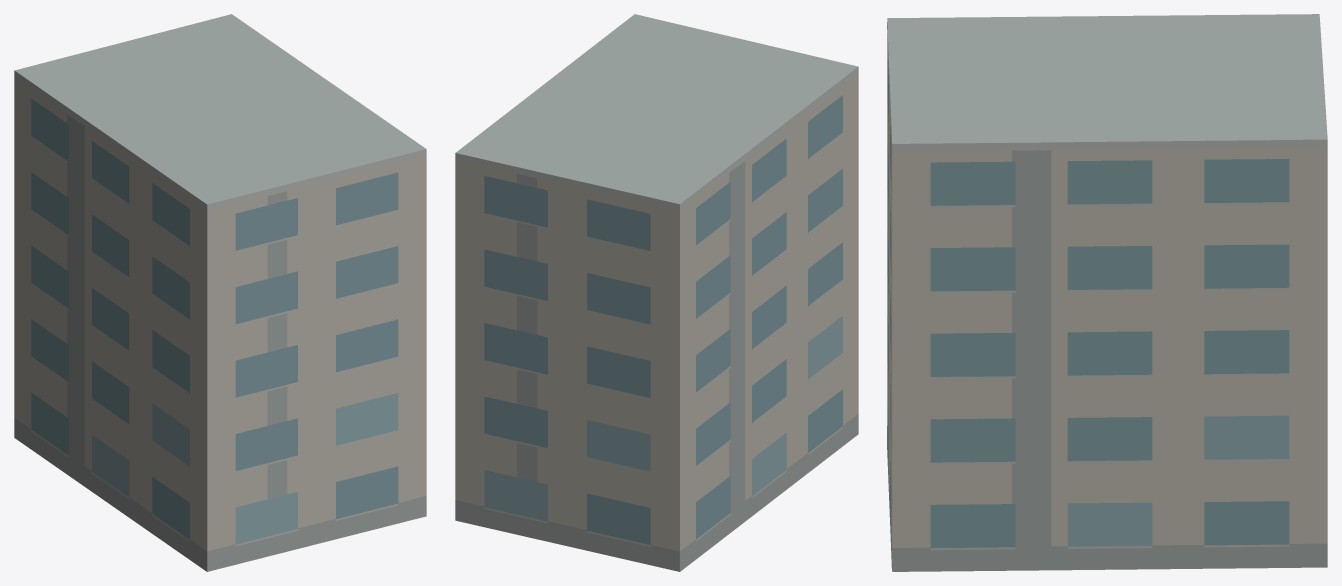
The model's file is survey-upis-32961659.glb.
3 views of the same model, side by side, from view 1: azimuth 30°, elevation 25°; view 2: azimuth 150°, elevation 25°; view 3: azimuth 270°, elevation 25° (orthographic). The views are drawn at different scales.
Visible parts, largest first — view 1: survey-upis-32961659.tmp; view 2: survey-upis-32961659.tmp; view 3: survey-upis-32961659.tmp.
Boxes of the visible parts, x1,y1,x2,y2 form: survey-upis-32961659.tmp: (14,14,426,571); survey-upis-32961659.tmp: (455,14,858,571); survey-upis-32961659.tmp: (887,14,1327,571).
Bounding box in the file's own units: 8.54 × 13.1 × 12.24.
